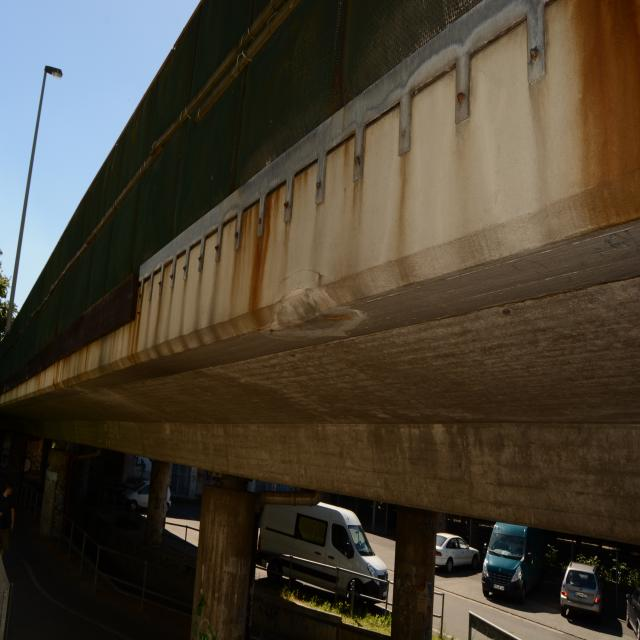corrosion: (0, 3, 640, 410)
